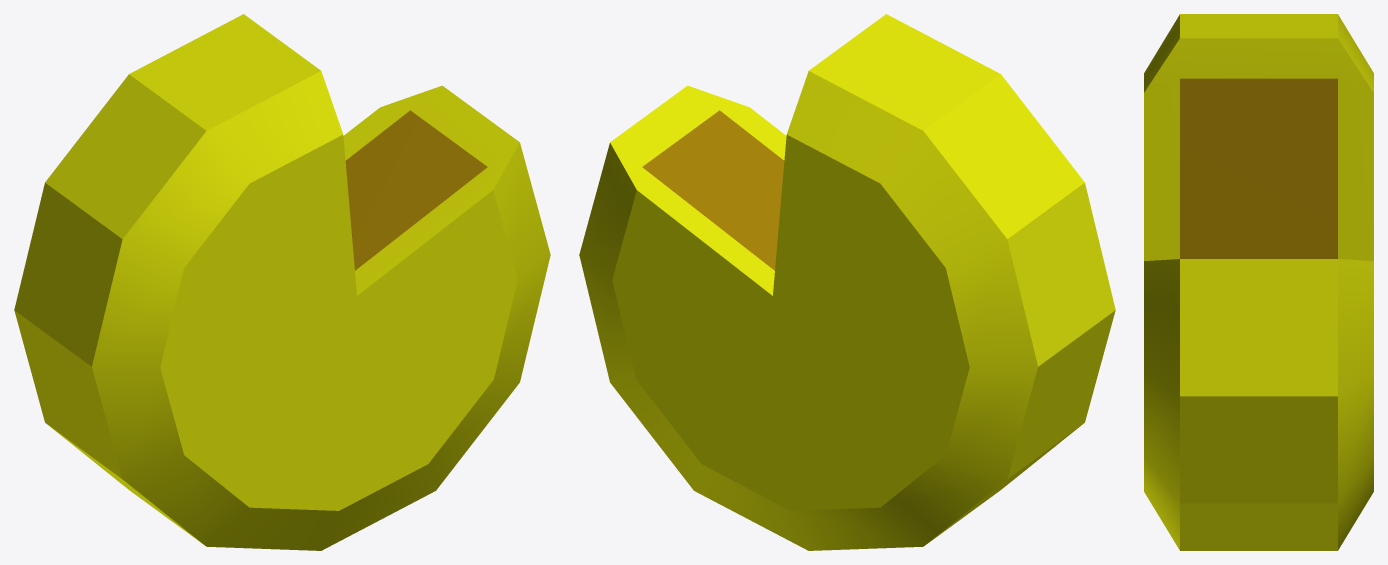
Rendered from cheese.fbx.
3 renders of one model, left to right at view 1: azimuth 30°, elevation 25°; view 2: azimuth 150°, elevation 25°; view 3: azimuth 270°, elevation 25°, orthographic.
Visible parts, largest first — view 1: pCylinder1; view 2: pCylinder1; view 3: pCylinder1.
Part boxes in pixels (left/top/right/bottom): pCylinder1: left=14, top=14, right=550, bottom=550; pCylinder1: left=579, top=14, right=1115, bottom=550; pCylinder1: left=1144, top=14, right=1373, bottom=550.
Bounding box in the file's own units: 2 × 2 × 0.8529.
